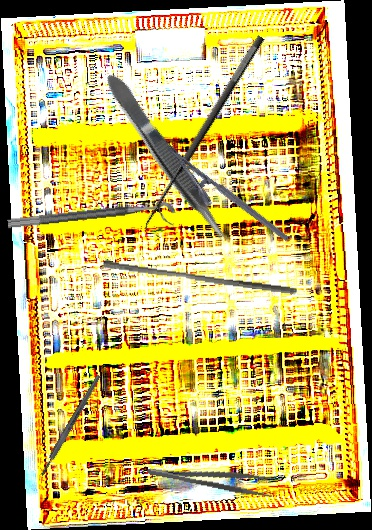Dressing Forceps: (146, 455, 275, 499)
Fixation Ring: (7, 200, 177, 243)
Hook Surgical: (135, 33, 281, 239)
Needle Holder: (153, 143, 290, 258)
Pusher: (101, 259, 299, 296)
Scalpel Handle: (38, 373, 103, 478)
Tissue Forceps: (100, 67, 235, 250)
